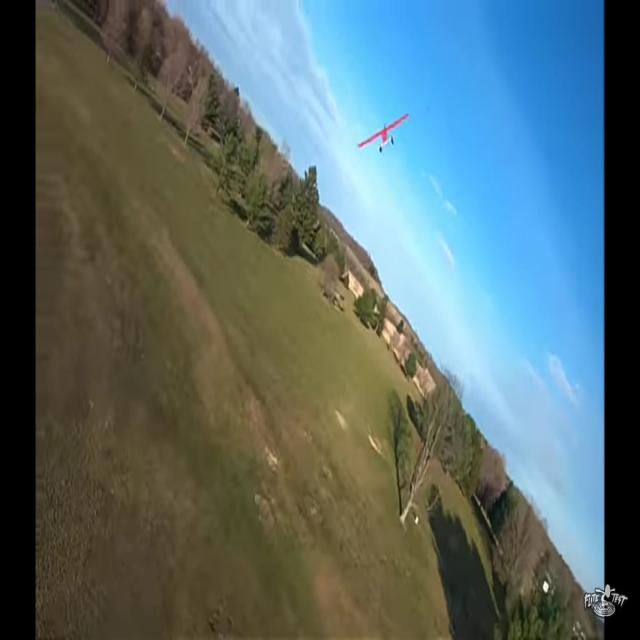iha: (357, 113, 410, 154)
